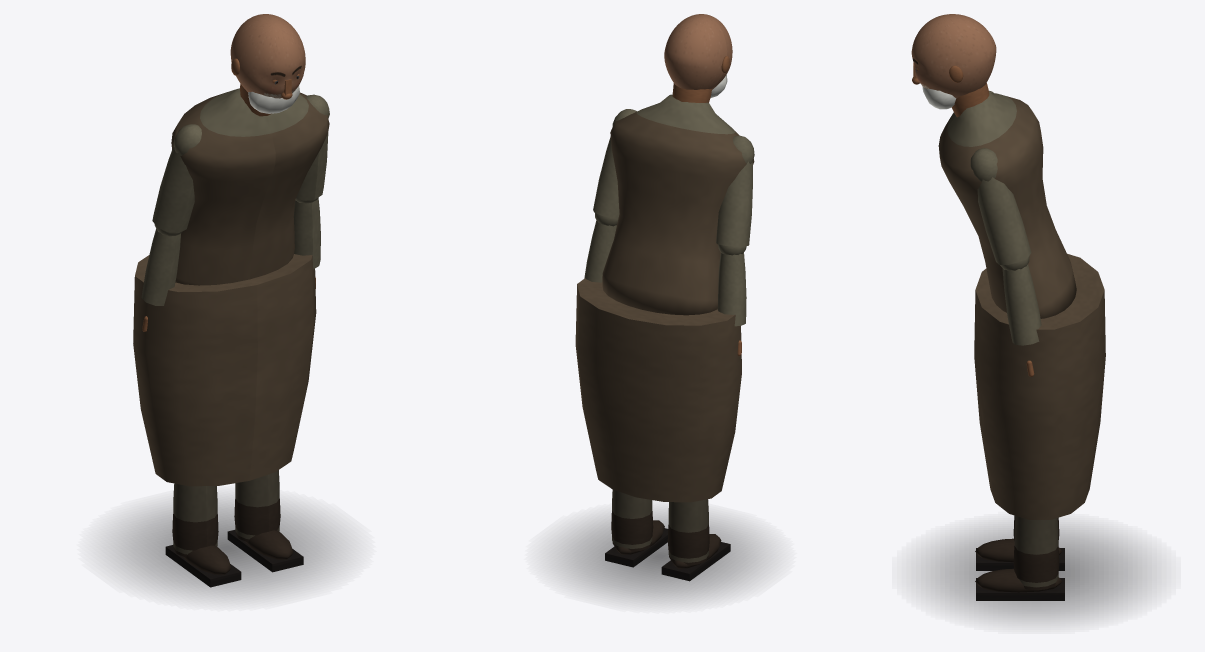
File: npc_marsh.glb
The picture shows the model from 3 angles, left to right: view 1: azimuth 30°, elevation 25°; view 2: azimuth 150°, elevation 25°; view 3: azimuth 270°, elevation 25°; orthographic projection. The views are drawn at different scales.
Parts seen in each view (by area): view 1: object 7, chest, object 12, head, shinL, shinR, armL, foreL, foreR, armR; view 2: object 7, chest, object 12, head, shinL, shinR, armL, foreL, armR, foreR; view 3: object 7, chest, object 12, head, shinR, armR, foreR, shinL.
Part boxes in pixels (left/top/right/bottom): object 7: left=133, top=254, right=316, bottom=486; chest: left=171, top=83, right=329, bottom=285; object 12: left=107, top=498, right=345, bottom=598; head: left=230, top=14, right=305, bottom=113; shinL: left=165, top=483, right=241, bottom=587; shinR: left=227, top=470, right=303, bottom=572; armL: left=152, top=124, right=201, bottom=232; foreL: left=141, top=224, right=182, bottom=331; foreR: left=293, top=197, right=320, bottom=288; armR: left=296, top=94, right=329, bottom=200; object 7: left=575, top=278, right=741, bottom=502; chest: left=602, top=83, right=754, bottom=315; object 12: left=552, top=510, right=768, bottom=601; head: left=664, top=14, right=732, bottom=98; shinL: left=661, top=499, right=730, bottom=581; shinR: left=605, top=489, right=668, bottom=567; armL: left=716, top=135, right=754, bottom=246; foreL: left=717, top=244, right=746, bottom=356; armR: left=593, top=109, right=636, bottom=218; foreR: left=584, top=213, right=618, bottom=282; object 7: left=974, top=253, right=1105, bottom=519; chest: left=938, top=83, right=1076, bottom=318; object 12: left=921, top=524, right=1151, bottom=621; head: left=911, top=14, right=996, bottom=109; shinR: left=975, top=516, right=1064, bottom=600; armR: left=970, top=148, right=1031, bottom=264; foreR: left=1000, top=256, right=1041, bottom=376; shinL: left=975, top=515, right=1064, bottom=570.
Size of the model in its own units: 0.868 by 1.75 by 0.868.
6 materials, 5 textured.
